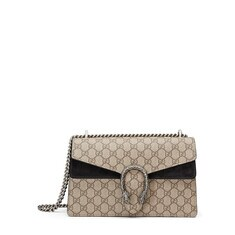Gucci: (52, 116, 206, 219), (111, 160, 157, 207), (93, 141, 172, 165)
